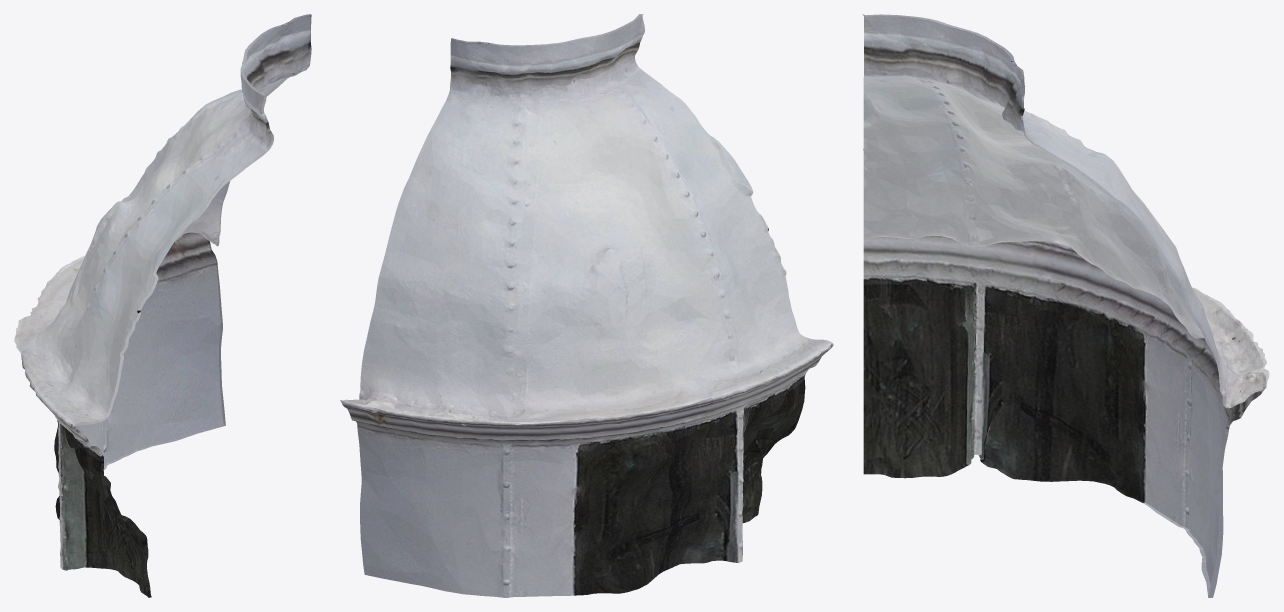
3 views of the same model, side by side, from view 1: azimuth 30°, elevation 25°; view 2: azimuth 150°, elevation 25°; view 3: azimuth 270°, elevation 25° (orthographic). The views are drawn at different scales.
Visible parts, largest first — view 1: node_45; view 2: node_45; view 3: node_45.
Boxes of the visible parts, box(x1,y1,x2,y2) form: node_45: box(14, 14, 311, 597); node_45: box(340, 14, 833, 597); node_45: box(862, 14, 1269, 597).
Size of the model in its own units: 1.28 by 1.87 by 1.33.
Materials: 1 (1 with a texture image).
